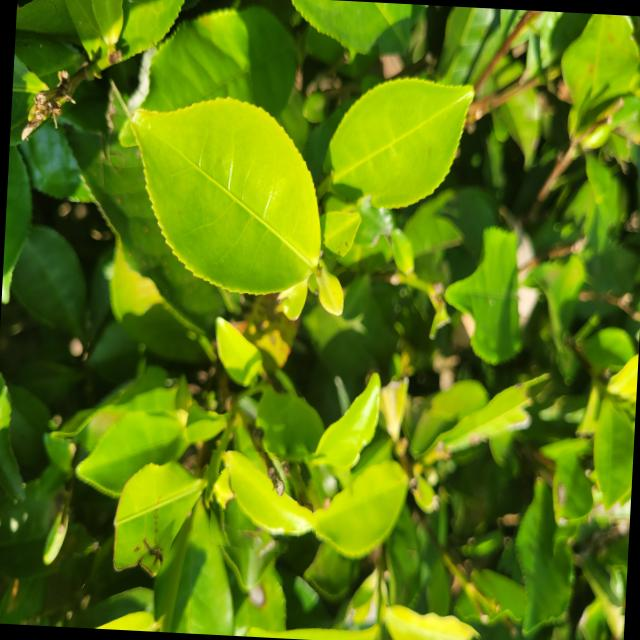Catagory A(1-2 days): (204, 449, 319, 557)
